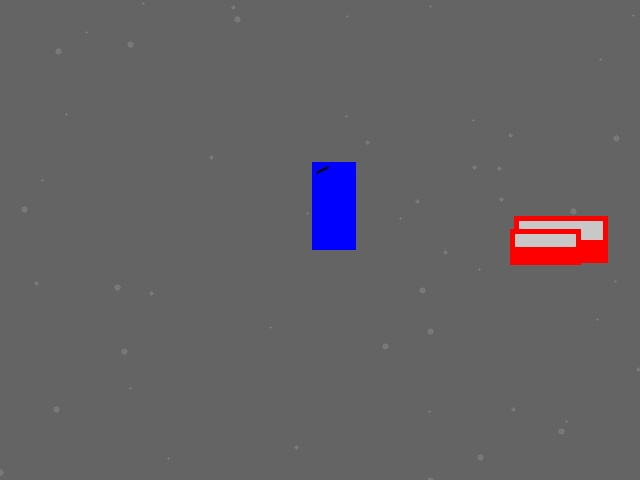car: (514, 216, 607, 262), (510, 229, 580, 264)
motorcycle: (312, 162, 355, 249)
